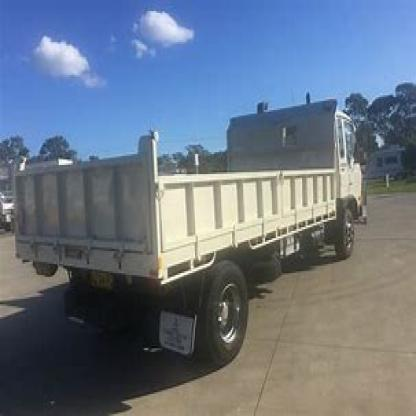dump_truck: (5, 77, 386, 372)
